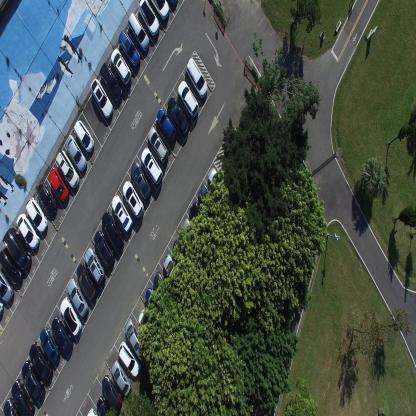car: (3, 226, 31, 270), (166, 94, 190, 137), (90, 77, 114, 119), (21, 360, 45, 402), (186, 56, 208, 100), (29, 341, 52, 382), (140, 144, 162, 186), (56, 148, 79, 188), (121, 179, 144, 219), (100, 374, 124, 412), (16, 212, 40, 250), (101, 209, 123, 250), (0, 247, 23, 286), (128, 11, 150, 51), (100, 61, 122, 101), (178, 79, 200, 119), (60, 296, 82, 336), (130, 161, 151, 202), (111, 193, 133, 232), (51, 315, 73, 354), (147, 125, 168, 165), (124, 318, 144, 360), (110, 47, 132, 85), (66, 133, 88, 171), (93, 229, 115, 267), (11, 379, 34, 415), (67, 278, 88, 317), (138, 0, 160, 37), (76, 264, 98, 301), (25, 198, 48, 233), (84, 246, 104, 286), (119, 29, 140, 67), (39, 326, 60, 364), (188, 201, 210, 237), (110, 360, 132, 396), (156, 107, 177, 144), (48, 166, 69, 203), (118, 342, 140, 377), (36, 182, 58, 216), (74, 117, 94, 152), (207, 167, 227, 202), (153, 269, 171, 306), (162, 254, 181, 289), (198, 184, 217, 219), (144, 288, 163, 320), (171, 238, 189, 270), (180, 218, 198, 249), (0, 268, 15, 303), (138, 308, 154, 337), (149, 0, 170, 22), (3, 397, 21, 415), (96, 396, 112, 415), (86, 408, 97, 416), (0, 297, 3, 317)
